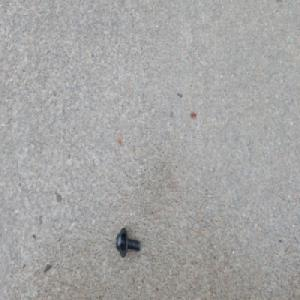BoltWasher: (115, 227, 141, 258)
